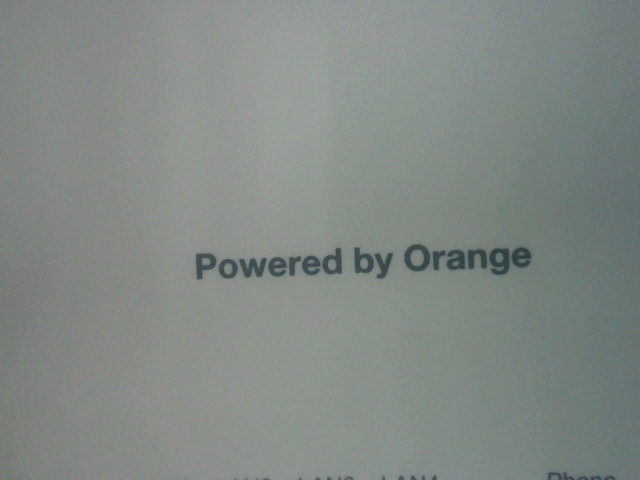AS_PowerByOrange: (181, 226, 539, 299)
